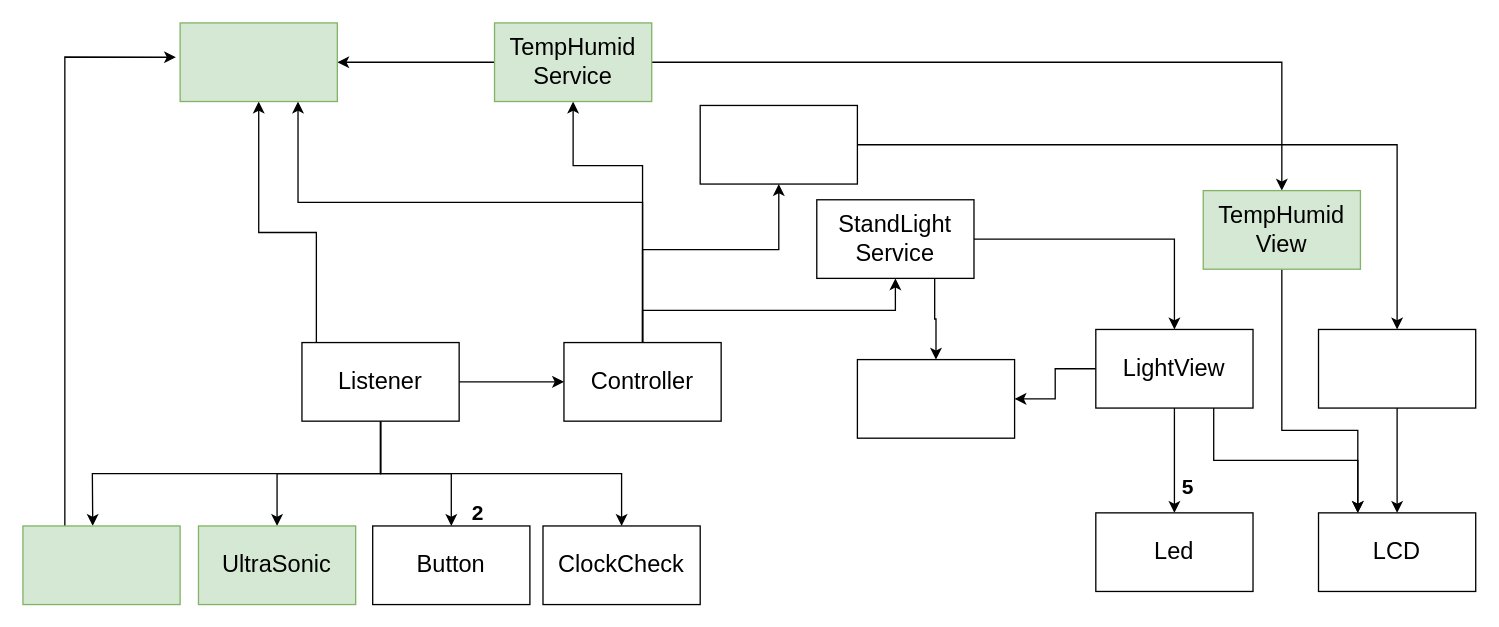
Image size: 1499x627. Some labels were removed from this diagram. Here are the shapes that lost their labels. From the top down, the centre of each, then its label:
At (x=258, y=62): "DHT_Data".
At (x=778, y=144): "Clock Service".
At (x=1396, y=368): "ClockView".
At (x=935, y=398): "<<enum>> lightState".
At (x=101, y=565): "dht11".
